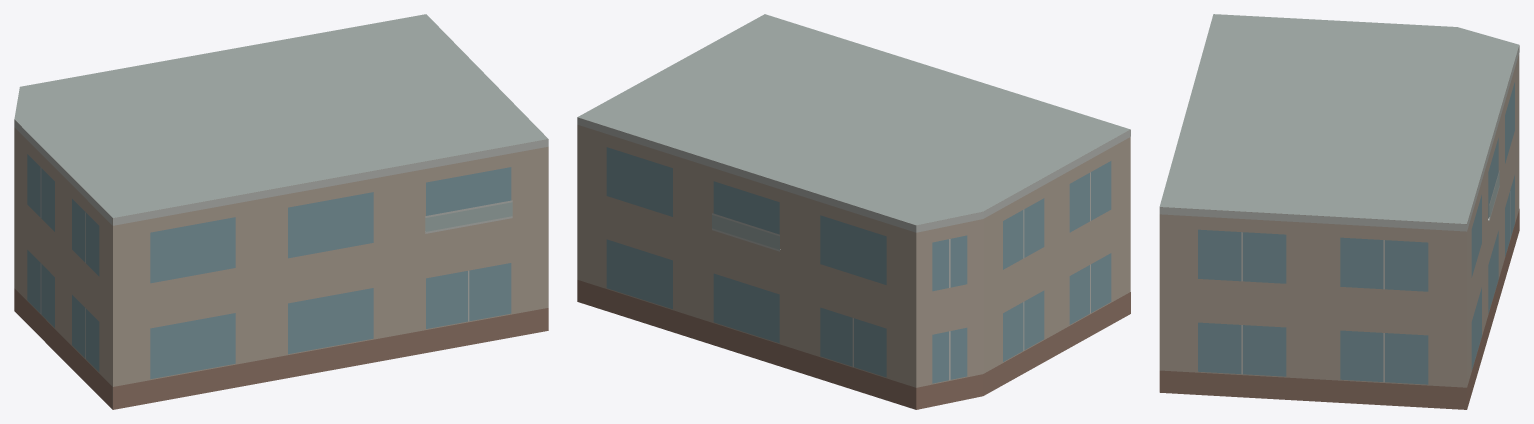
File: survey-upis-32666327.glb
The picture shows the model from 3 angles, left to right: view 1: azimuth 30°, elevation 25°; view 2: azimuth 150°, elevation 25°; view 3: azimuth 270°, elevation 25°; orthographic projection. The views are drawn at different scales.
Parts seen in each view (by area): view 1: survey-upis-32666327.tmp; view 2: survey-upis-32666327.tmp; view 3: survey-upis-32666327.tmp.
Boxes of the visible parts, left/top/right/bottom form: survey-upis-32666327.tmp: left=14, top=14, right=548, bottom=409; survey-upis-32666327.tmp: left=577, top=14, right=1130, bottom=409; survey-upis-32666327.tmp: left=1159, top=14, right=1519, bottom=409.
Bounding box in the file's own units: 14.81 × 6.1 × 10.72.
